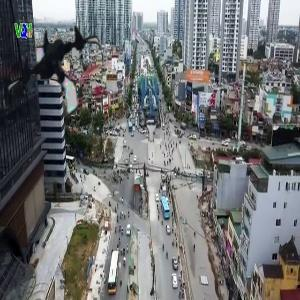drone: (1, 22, 111, 132)
